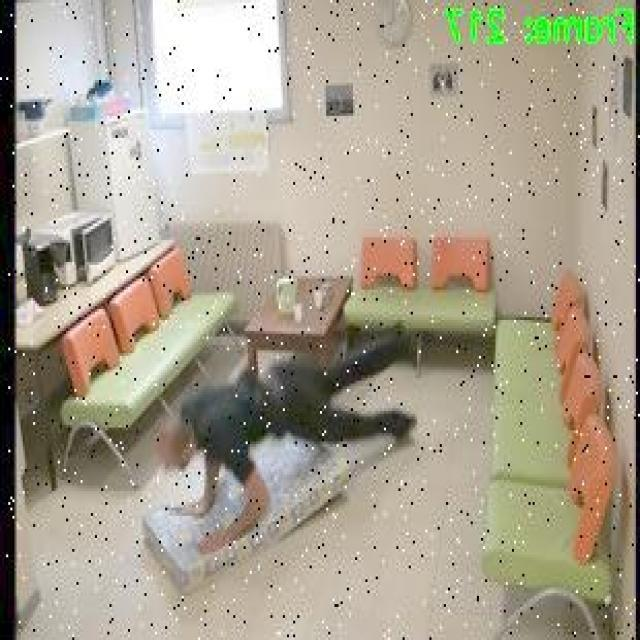fall: (154, 317, 420, 560)
